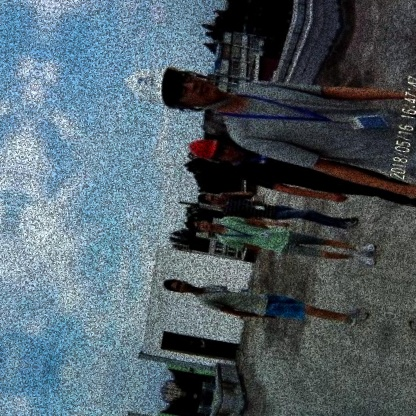red: (184, 135, 222, 166)
white: (114, 51, 197, 120)
